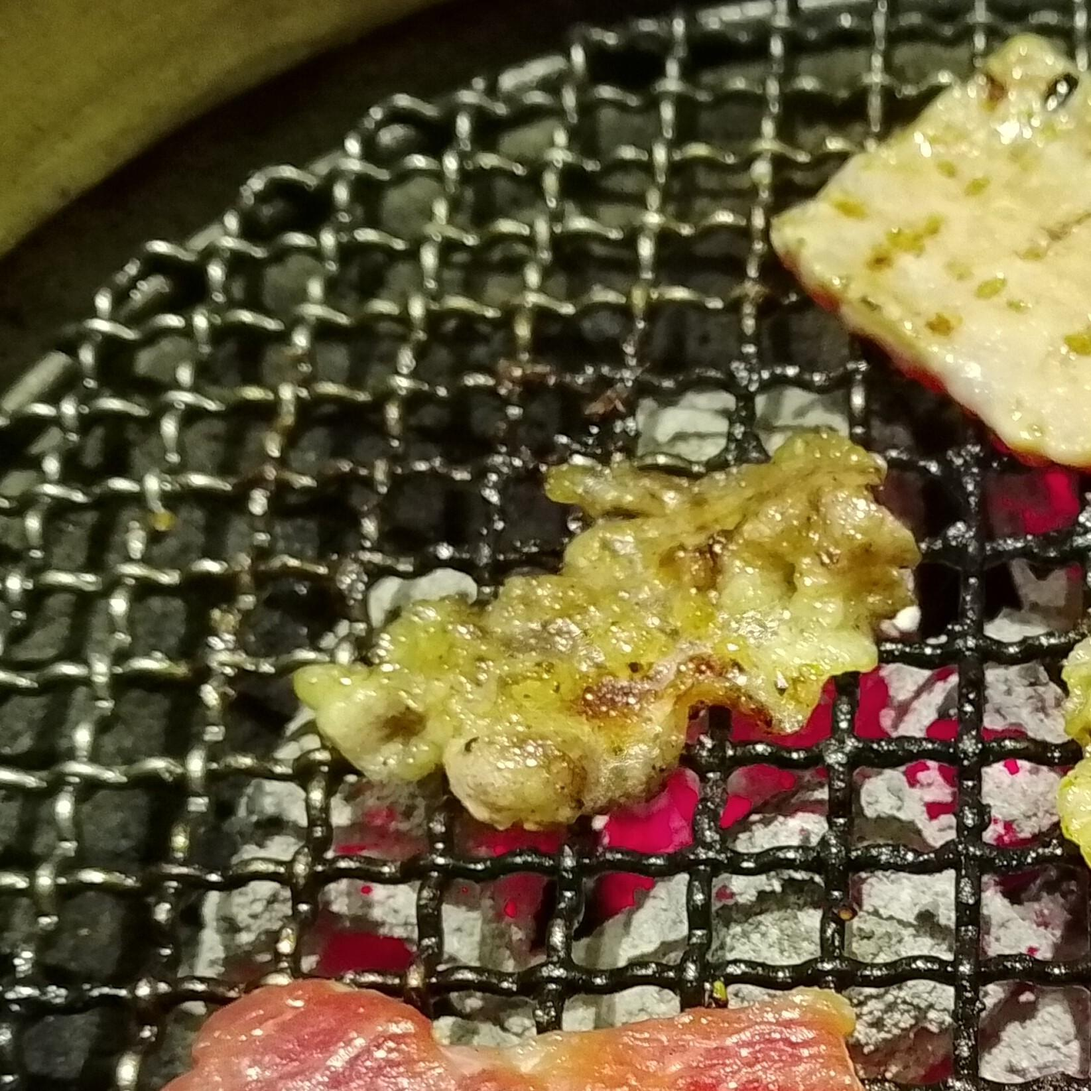Undercooked: (165, 988, 866, 1090)
Well-Cooked: (289, 428, 921, 833), (769, 32, 1090, 478)
